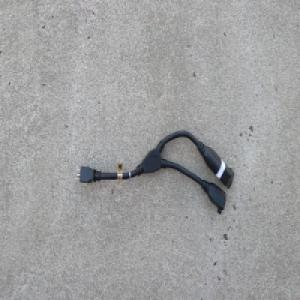Wire: (73, 129, 234, 215)
